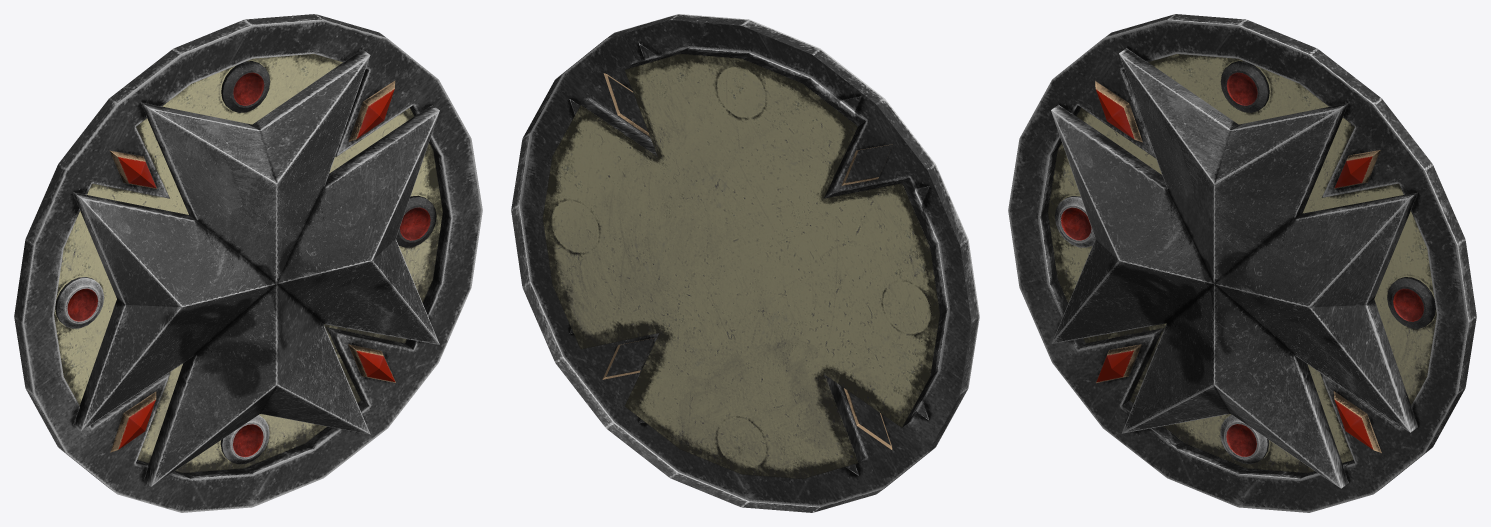
File: gema.glb
The picture shows the model from 3 angles, left to right: view 1: azimuth 30°, elevation 25°; view 2: azimuth 150°, elevation 25°; view 3: azimuth 330°, elevation 25°; orthographic projection.
Visible parts, largest first — view 1: bt_cross; view 2: bt_cross; view 3: bt_cross.
Boxes of the visible parts, x1=… form: bt_cross: x1=14, y1=14, x2=482, y2=512; bt_cross: x1=511, y1=14, x2=979, y2=512; bt_cross: x1=1008, y1=14, x2=1476, y2=512.
Size of the model in its own units: 0.0488 by 0.0488 by 0.00598.
1 material, 1 textured.
